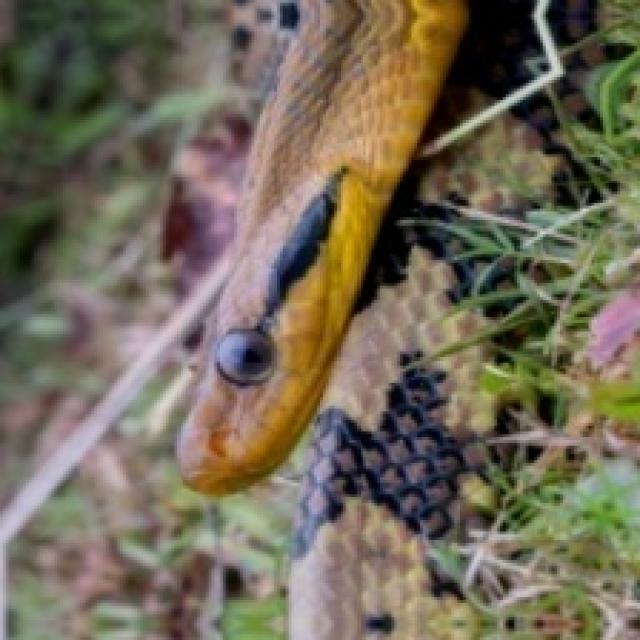dog-toothed cat snake: (177, 0, 637, 637)
